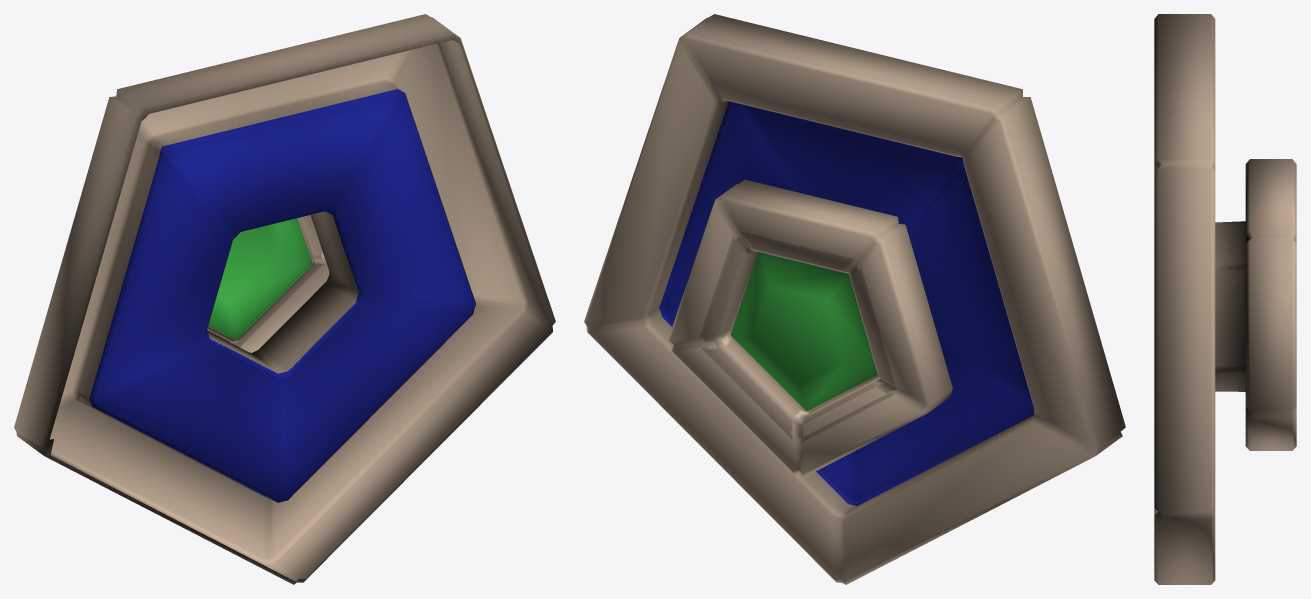
Rendered from fountain.fbx.
3 renders of one model, left to right at view 1: azimuth 30°, elevation 25°; view 2: azimuth 150°, elevation 25°; view 3: azimuth 270°, elevation 25°, orthographic. The views are drawn at different scales.
Visible parts, largest first — view 1: Fountain; view 2: Fountain; view 3: Fountain.
Part boxes in pixels (left/top/right/bottom): Fountain: left=14, top=14, right=555, bottom=584; Fountain: left=584, top=14, right=1125, bottom=584; Fountain: left=1154, top=14, right=1296, bottom=584.
Size of the model in its own units: 56658 by 53885 by 14000.
